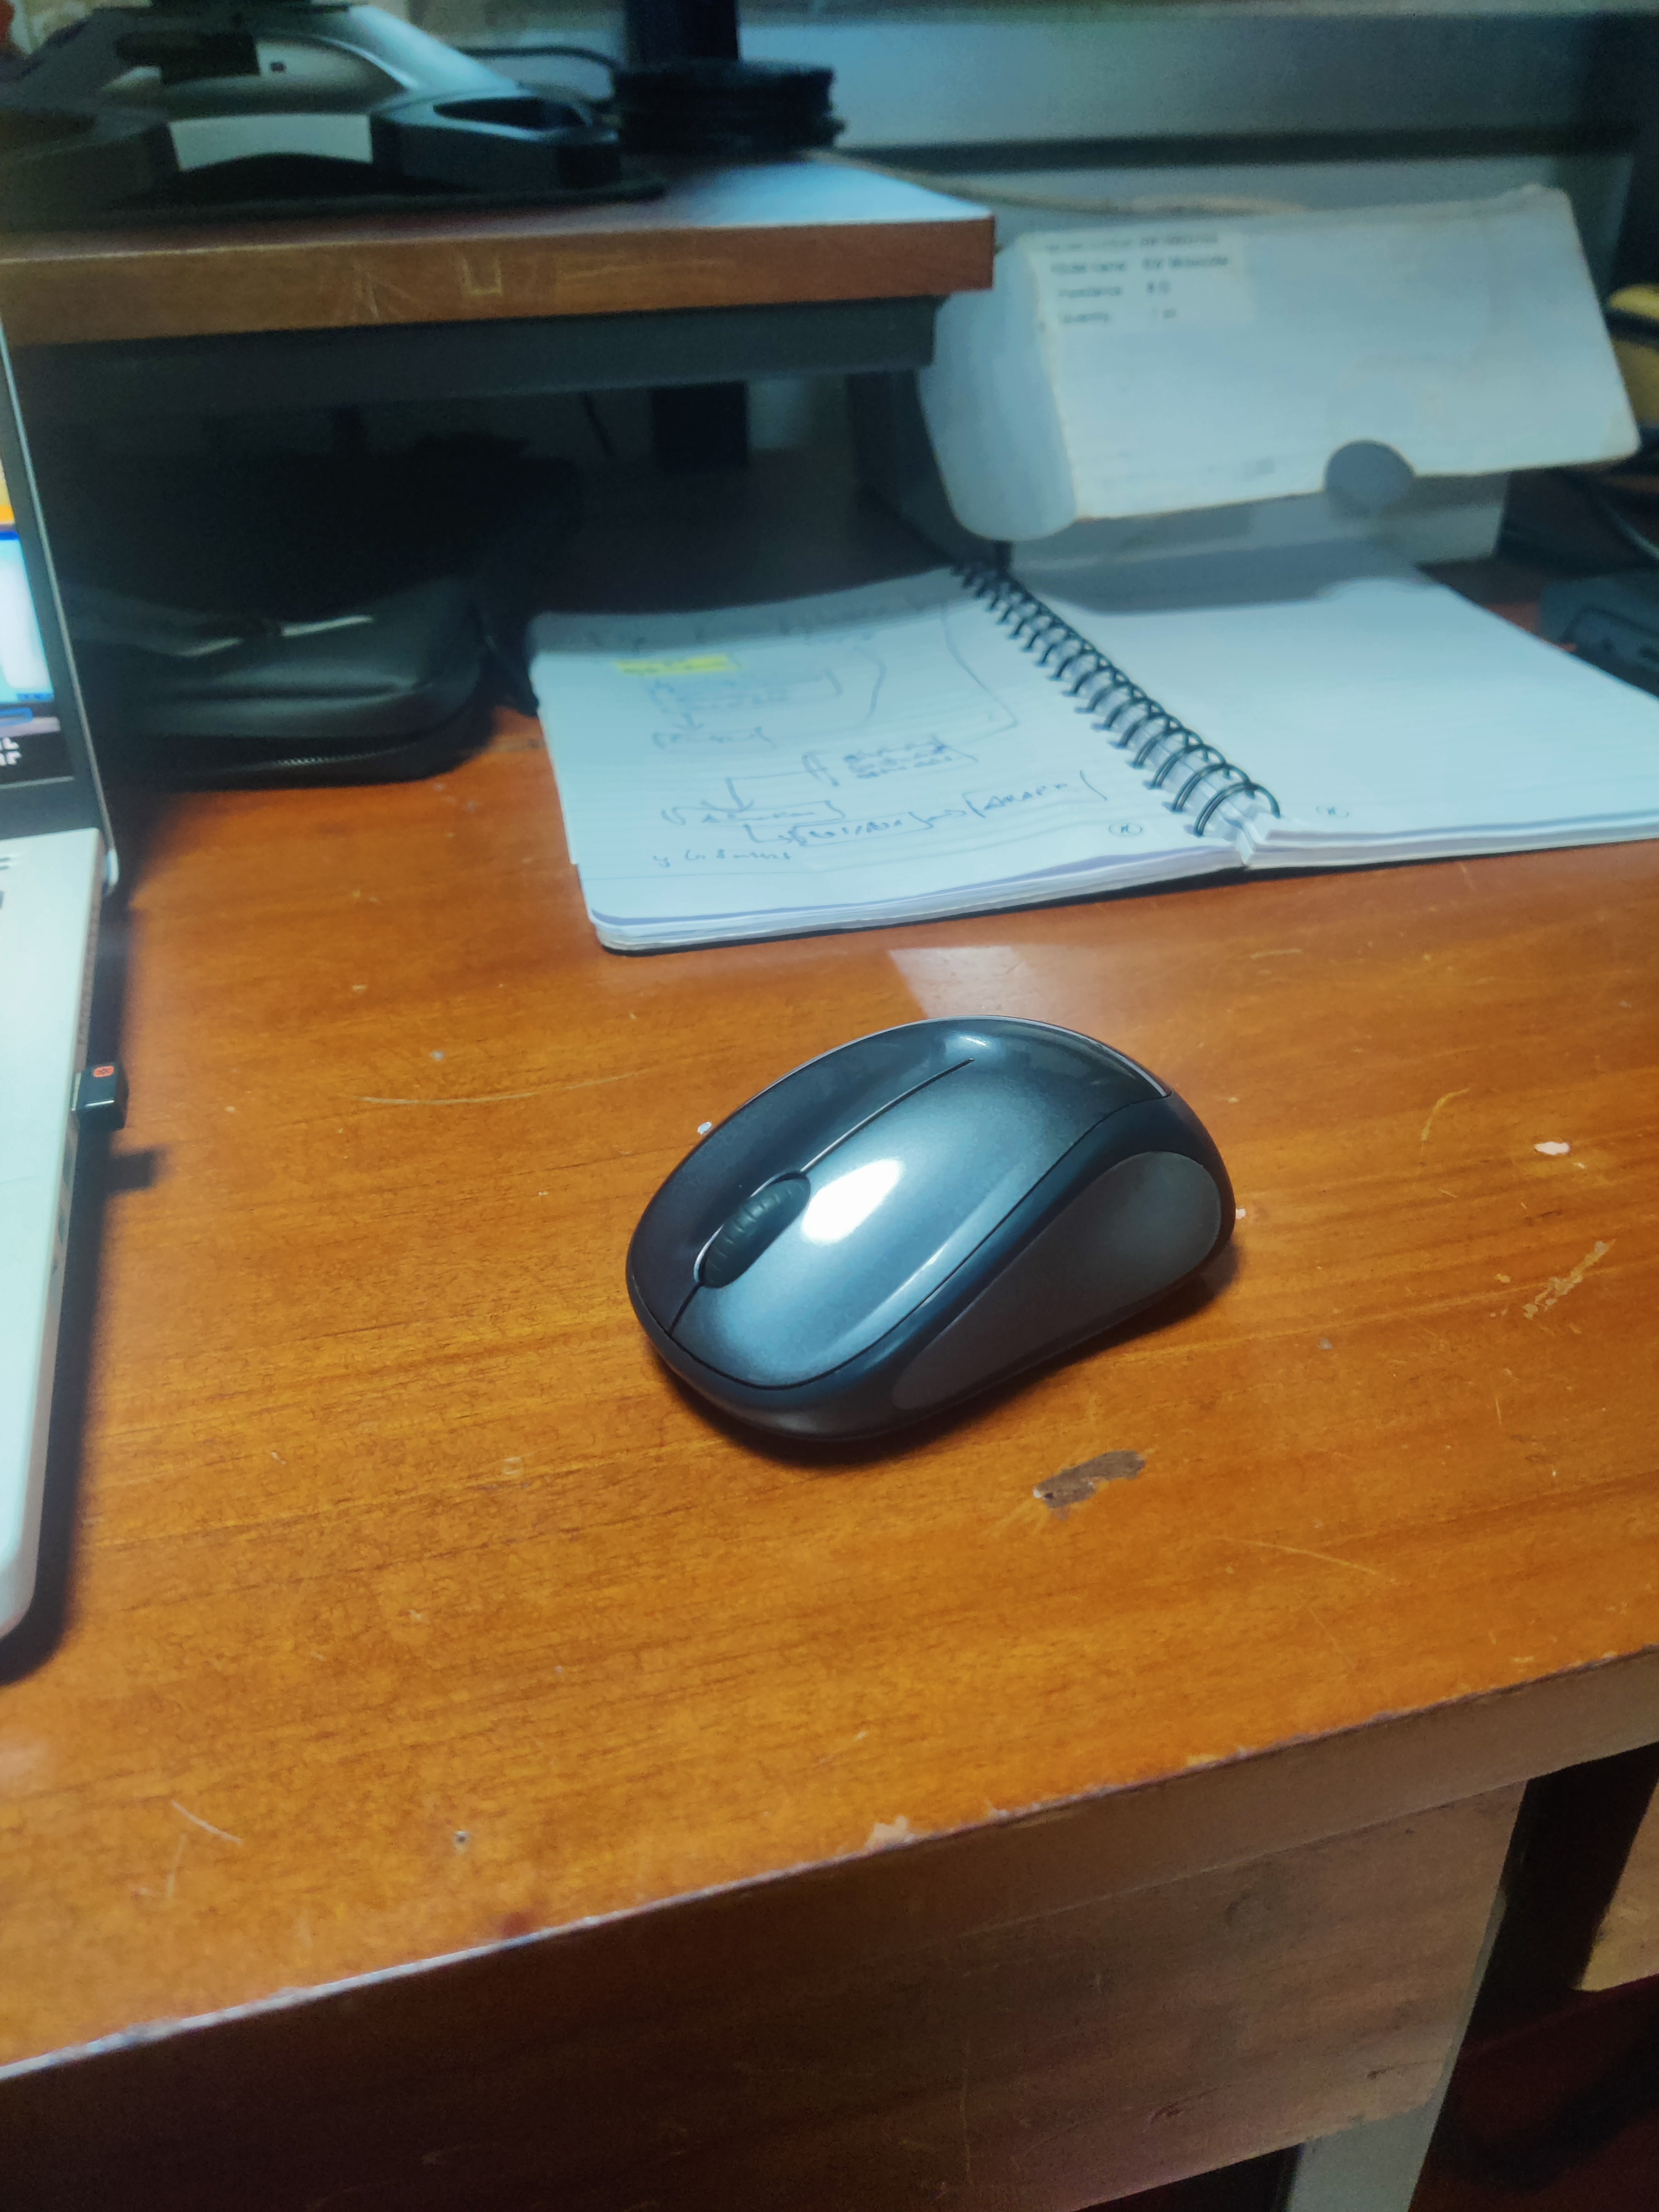logitechMouse: (617, 1012, 1243, 1479)
